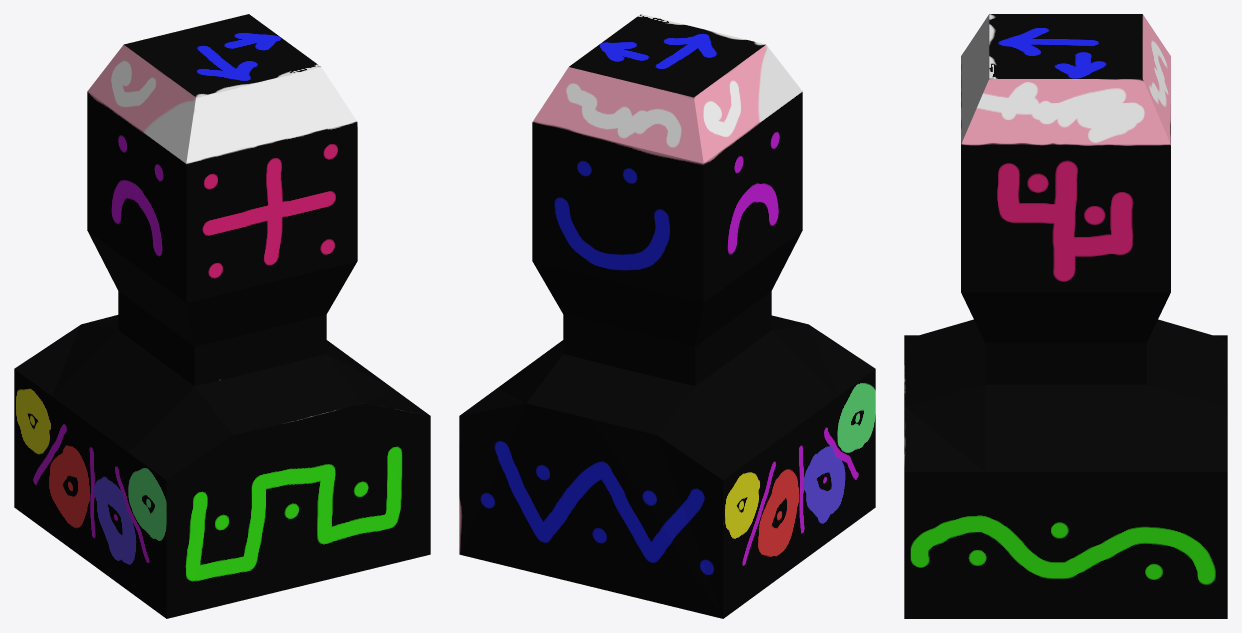
The model's file is TestPillar.dae.
The picture shows the model from 3 angles, left to right: view 1: azimuth 30°, elevation 25°; view 2: azimuth 150°, elevation 25°; view 3: azimuth 270°, elevation 25°; orthographic projection. The views are drawn at different scales.
Parts seen in each view (by area): view 1: Cube; view 2: Cube; view 3: Cube.
Boxes of the visible parts, bbox=[...] form: Cube: bbox=[14, 14, 430, 618]; Cube: bbox=[459, 14, 875, 618]; Cube: bbox=[904, 14, 1227, 618].
Bounding box in the file's own units: 2 × 2 × 3.44.
1 material, 1 textured.
